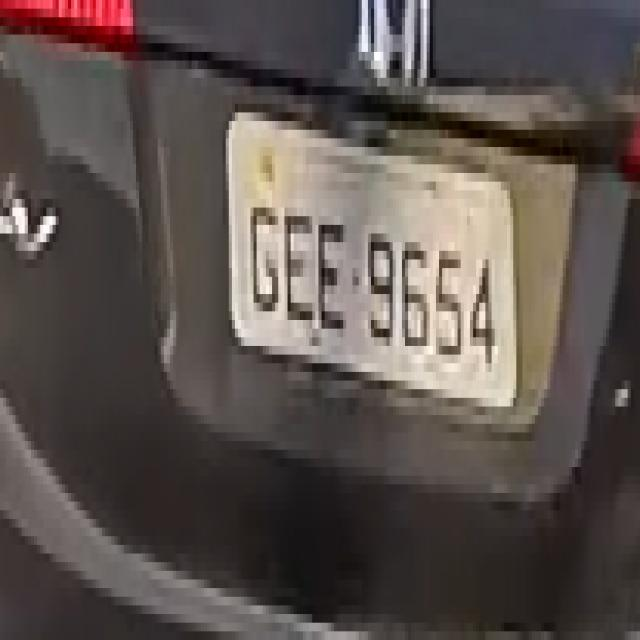Placa_mercosul_carro: (228, 109, 518, 407)
